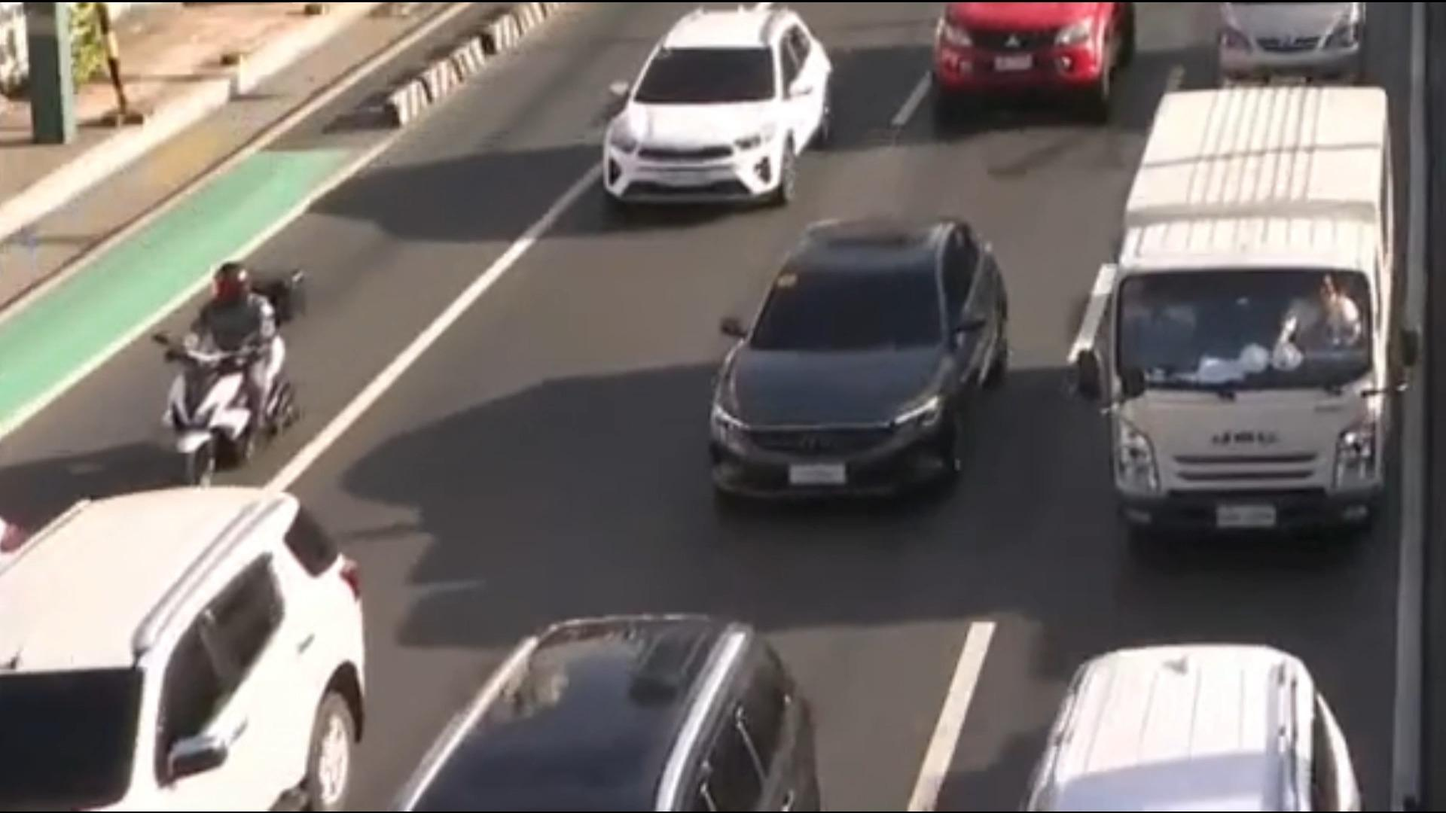Motorcycle: (151, 248, 318, 497)
SUV: (0, 486, 367, 813), (392, 619, 825, 813), (1004, 644, 1367, 813), (595, 6, 838, 213), (928, 0, 1139, 117)
Sedan: (708, 213, 1009, 514)
Truck: (1086, 85, 1401, 559)
